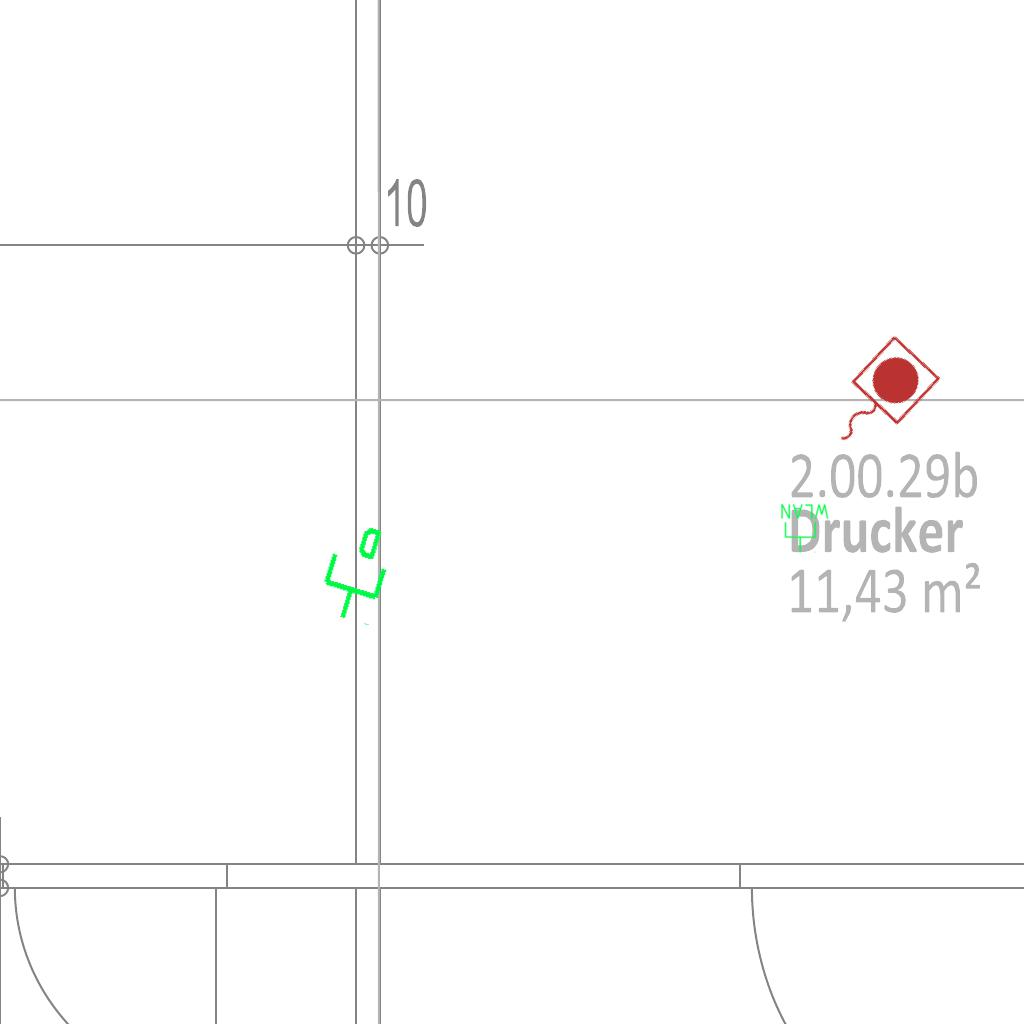Datenanschluss_einfach: (306, 514, 403, 630)
WLAN: (779, 502, 831, 554)
Zugtaster: (810, 328, 946, 468)
